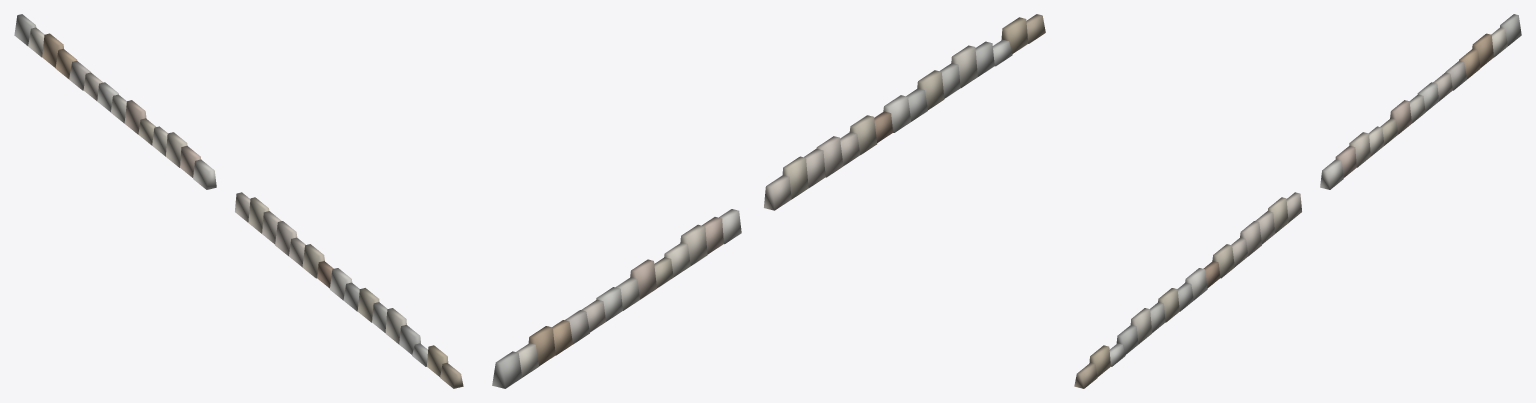
Rendered from farm_14_9_collision.glb.
3 renders of one model, left to right at view 1: azimuth 30°, elevation 25°; view 2: azimuth 150°, elevation 25°; view 3: azimuth 330°, elevation 25°, orthographic. The views are drawn at different scales.
Visible parts, largest first — view 1: geometry_0; view 2: geometry_0; view 3: geometry_0.
Part boxes in pixels (x1,y1,x2,y2): geometry_0: [14, 14, 463, 388]; geometry_0: [492, 14, 1045, 388]; geometry_0: [1074, 14, 1521, 388].
Bounding box in the file's own units: 0.7805 × 3.42 × 51.13.
